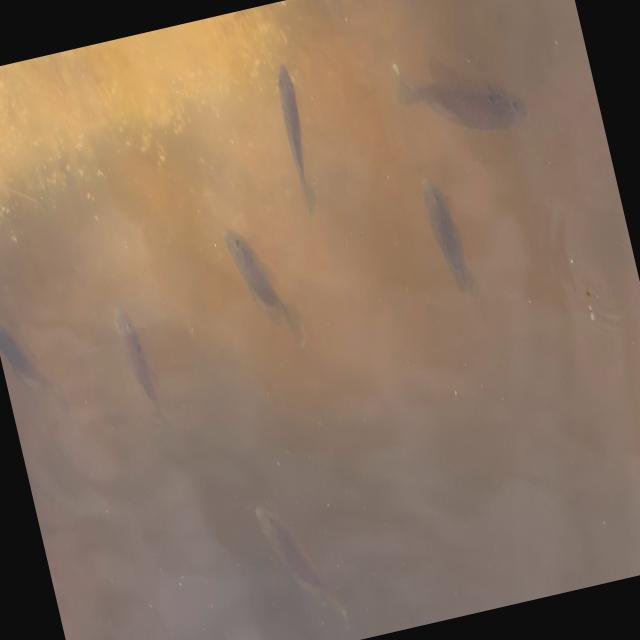Gunes Levregi: (386, 34, 534, 156), (254, 491, 350, 639), (220, 215, 310, 362), (268, 60, 332, 224), (0, 303, 74, 428), (110, 300, 168, 441), (418, 175, 479, 303)
